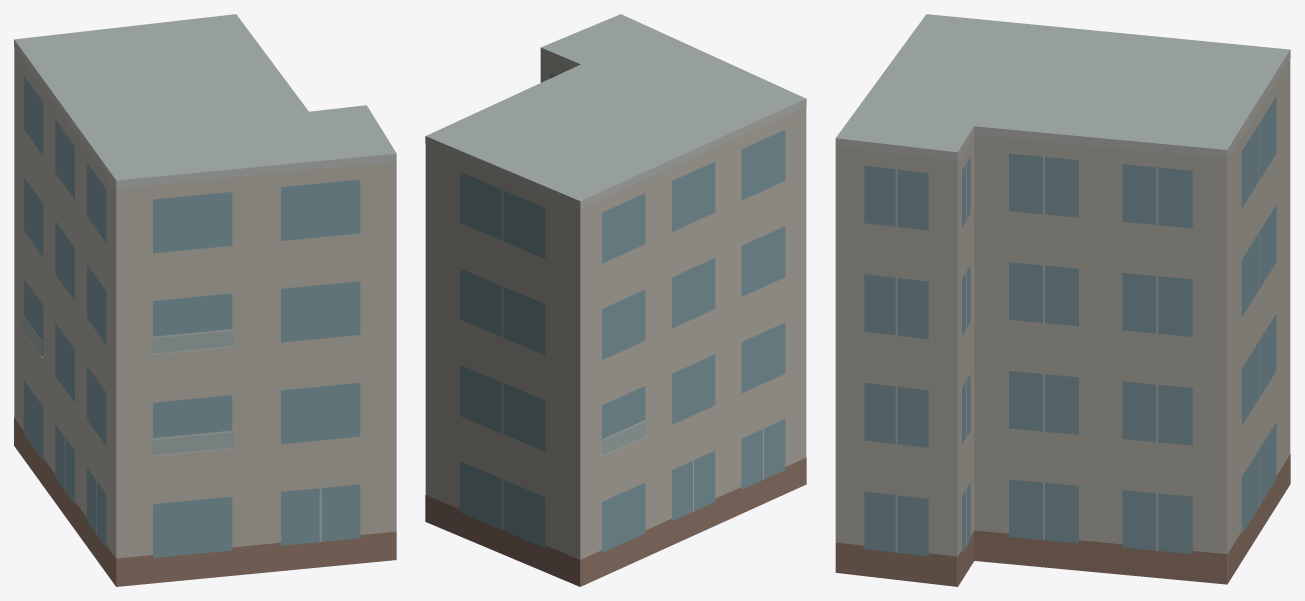
Rendered from survey-upis-32934537.glb.
3 renders of one model, left to right at view 1: azimuth 30°, elevation 25°; view 2: azimuth 150°, elevation 25°; view 3: azimuth 270°, elevation 25°, orthographic. The views are drawn at different scales.
Visible parts, largest first — view 1: survey-upis-32934537.tmp; view 2: survey-upis-32934537.tmp; view 3: survey-upis-32934537.tmp.
Part boxes in pixels (<box>): survey-upis-32934537.tmp: <box>14,14,396,586</box>; survey-upis-32934537.tmp: <box>425,14,806,586</box>; survey-upis-32934537.tmp: <box>835,14,1290,586</box>.
Bounding box in the file's own units: 8.55 × 12.5 × 11.87.
